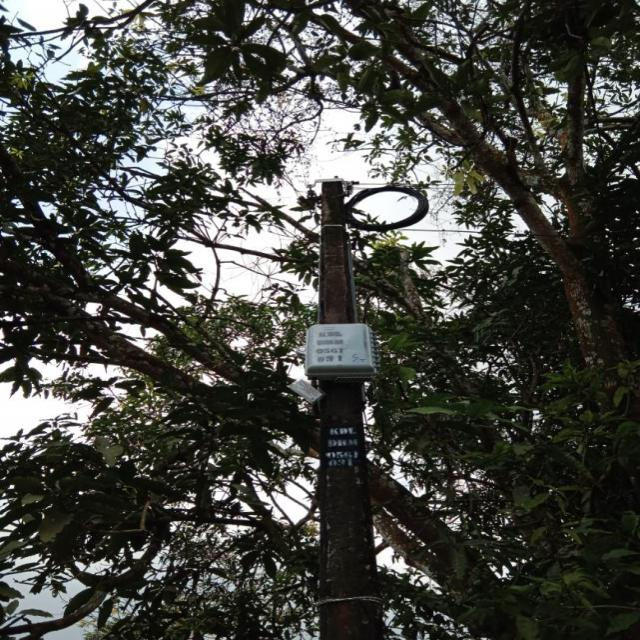light_pole: (290, 175, 402, 640)
